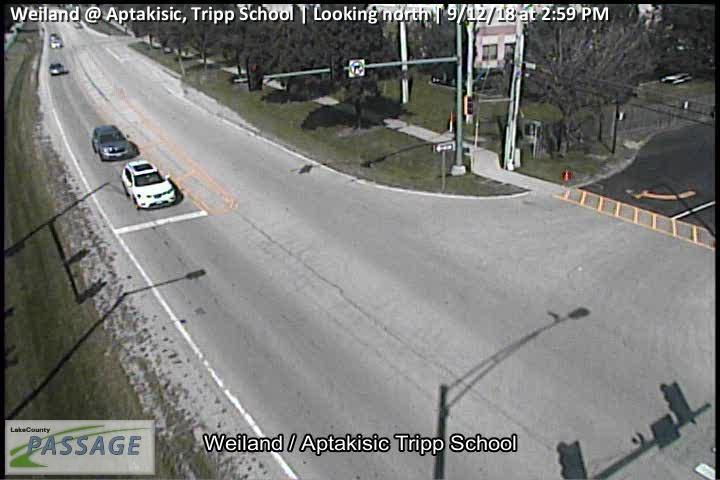SUV: (121, 159, 176, 210), (92, 125, 134, 163)
Sedan: (49, 62, 63, 75)
